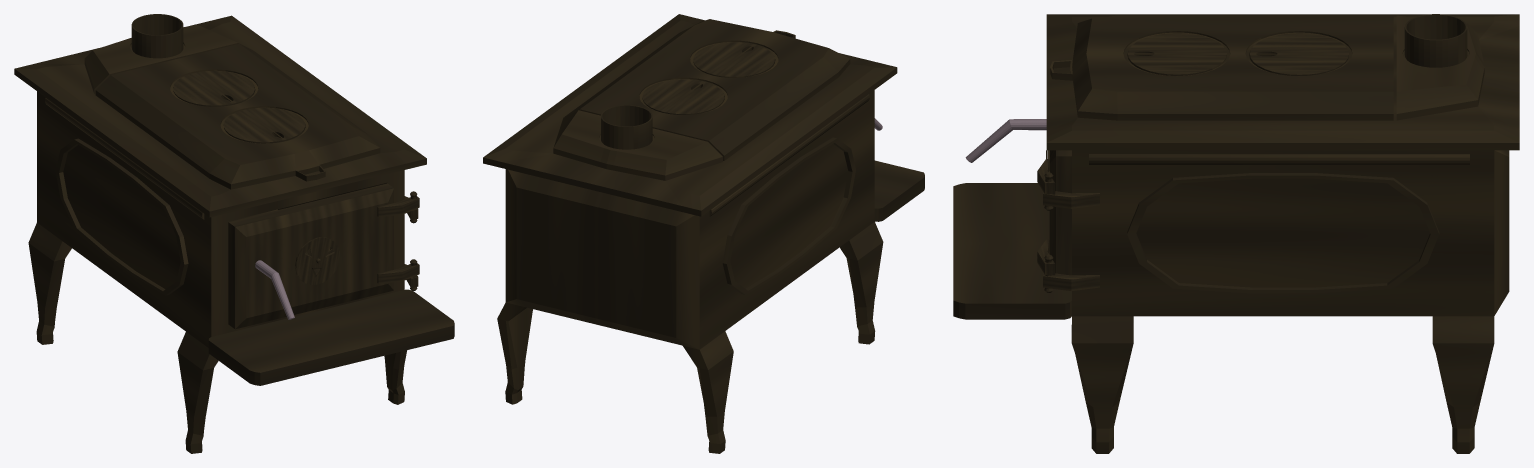
The model's file is Cast_Iron_Samll_Woodburning_Stoves.fbx.
3 renders of one model, left to right at view 1: azimuth 30°, elevation 25°; view 2: azimuth 150°, elevation 25°; view 3: azimuth 270°, elevation 25°, orthographic. The views are drawn at different scales.
Parts seen in each view (by area): view 1: SamllStoves, Lid, TopLid, TopLid.001, Lid.001, handlo, H.000, H.002; view 2: SamllStoves, TopLid, TopLid.001; view 3: SamllStoves, TopLid, TopLid.001, Lid, handlo, H.003, H.001.
Boxes of the visible parts, x1,y1,x2,y2 form: SamllStoves: [14, 14, 454, 453]; Lid: [228, 183, 393, 329]; TopLid: [173, 71, 254, 106]; TopLid.001: [223, 107, 304, 143]; Lid.001: [296, 237, 339, 284]; handlo: [255, 260, 294, 319]; H.000: [377, 263, 419, 283]; H.002: [377, 196, 419, 217]; SamllStoves: [483, 14, 924, 453]; TopLid: [642, 79, 724, 114]; TopLid.001: [693, 42, 774, 77]; SamllStoves: [953, 14, 1519, 453]; TopLid: [1250, 33, 1348, 75]; TopLid.001: [1127, 33, 1226, 75]; Lid: [1048, 150, 1071, 275]; handlo: [965, 119, 1046, 162]; H.003: [1043, 272, 1099, 290]; H.001: [1043, 191, 1099, 208].
Size of the model in its own units: 589 by 778 by 1097.
